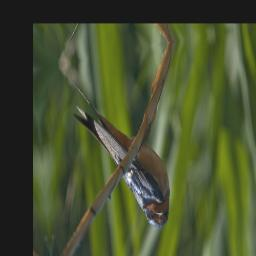Swallow: (68, 59, 174, 244)
